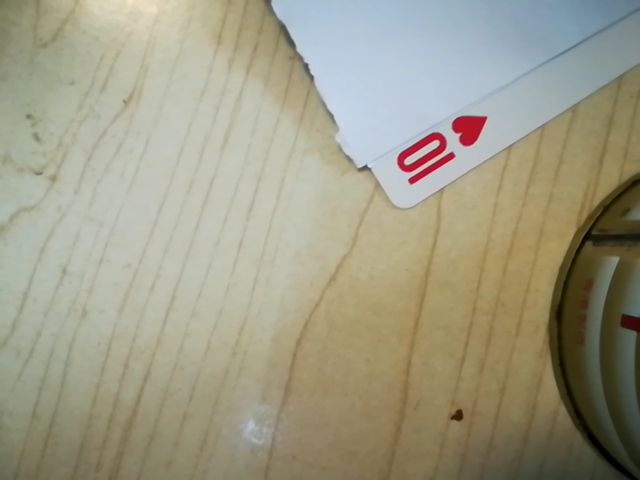hx 10: (388, 109, 494, 192)
